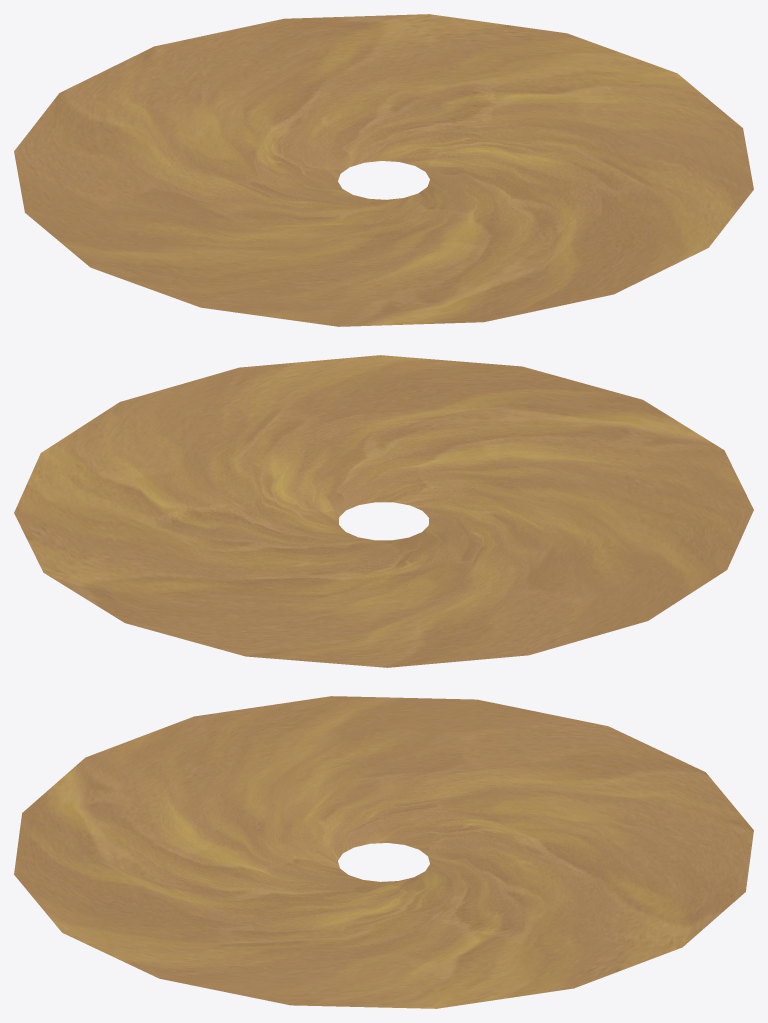
The model's file is liusha.FBX.
3 renders of one model, top to bottom at view 1: azimuth 30°, elevation 25°; view 2: azimuth 150°, elevation 25°; view 3: azimuth 270°, elevation 25°, orthographic.
Visible parts, largest first — view 1: liusha; view 2: liusha; view 3: liusha.
Part boxes in pixels (x1=…): liusha: x1=14, y1=14, x2=753, y2=326; liusha: x1=14, y1=355, x2=753, y2=667; liusha: x1=14, y1=696, x2=753, y2=1008.
Size of the model in its own units: 491 by 7.26 by 491.
